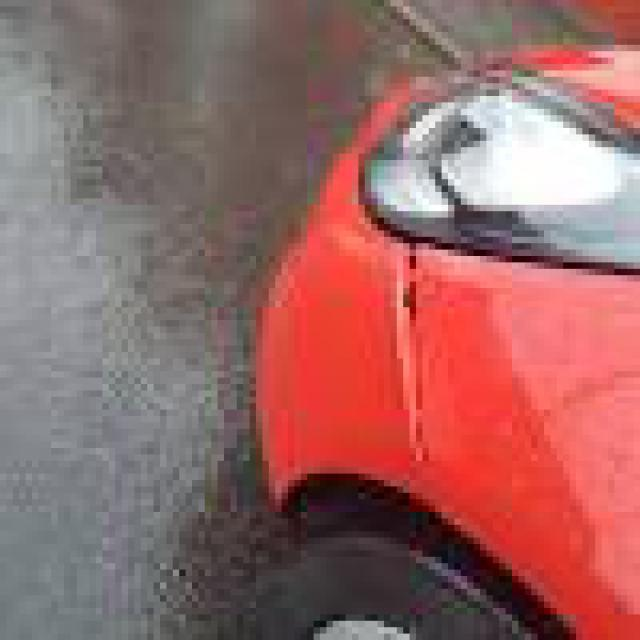front-bumper-dent: (224, 141, 435, 576)
